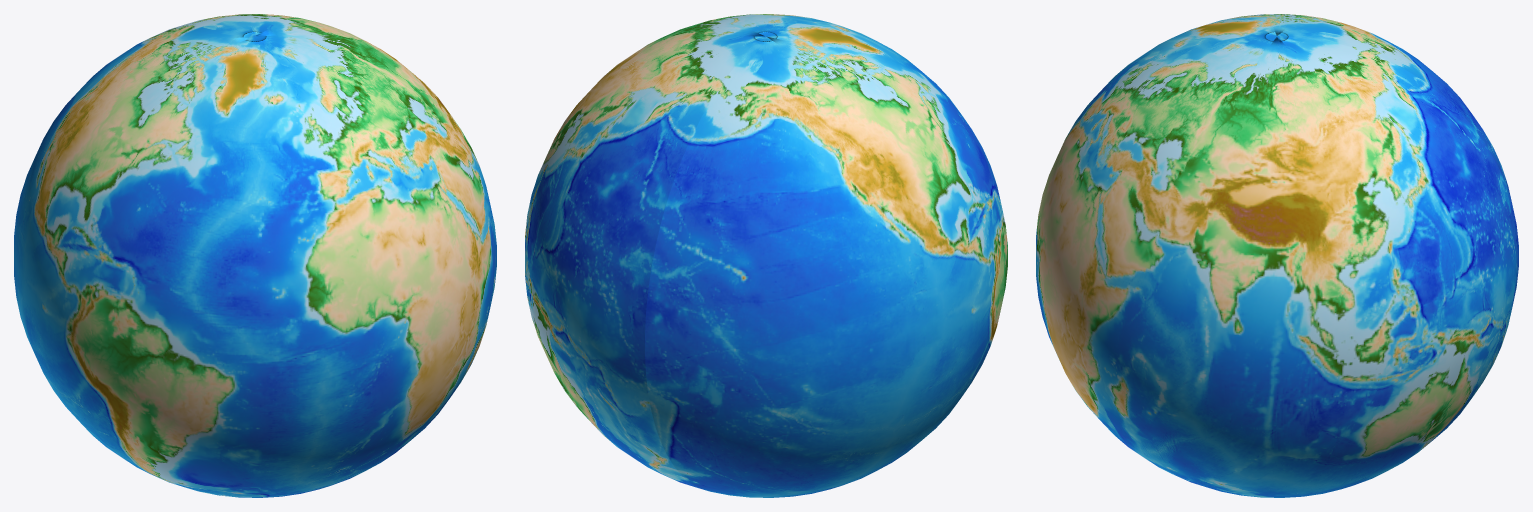
Rendered from earth_2.obj.
3 views of the same model, side by side, from view 1: azimuth 30°, elevation 25°; view 2: azimuth 150°, elevation 25°; view 3: azimuth 270°, elevation 25° (orthographic).
Parts seen in each view (by area): view 1: Plane_Plane.001; view 2: Plane_Plane.001; view 3: Plane_Plane.001.
Boxes of the visible parts, x1=… form: Plane_Plane.001: x1=14, y1=14, x2=496, y2=497; Plane_Plane.001: x1=525, y1=14, x2=1007, y2=497; Plane_Plane.001: x1=1036, y1=14, x2=1518, y2=497.
Bounding box in the file's own units: 0.9977 × 1 × 0.9966.
Materials: 1 (1 with a texture image).
